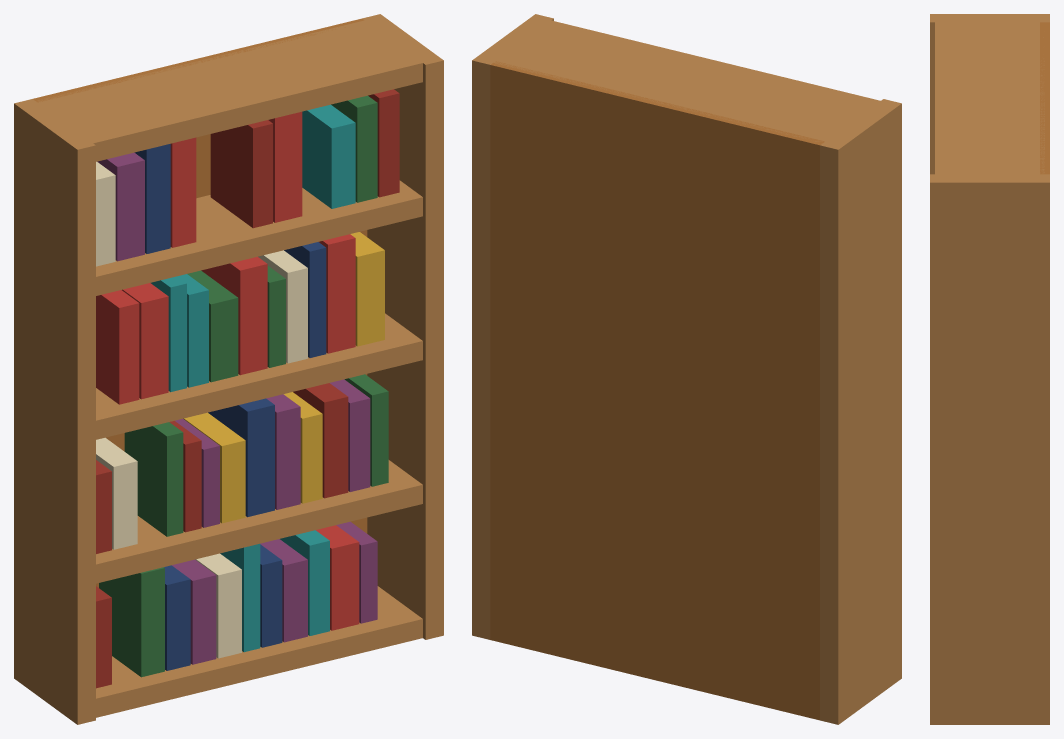
File: FUR_Bookshelf.fbx
The picture shows the model from 3 angles, left to right: view 1: azimuth 30°, elevation 25°; view 2: azimuth 150°, elevation 25°; view 3: azimuth 270°, elevation 25°; orthographic projection. The views are drawn at different scales.
Parts seen in each view (by area): view 1: FUR_Bookshelf; view 2: FUR_Bookshelf; view 3: FUR_Bookshelf.
Boxes of the visible parts, box(x1,y1,x2,y2) form: FUR_Bookshelf: box(14, 14, 443, 724); FUR_Bookshelf: box(472, 14, 901, 724); FUR_Bookshelf: box(930, 14, 1049, 724).
Bounding box in the file's own units: 4 × 6 × 1.2.
